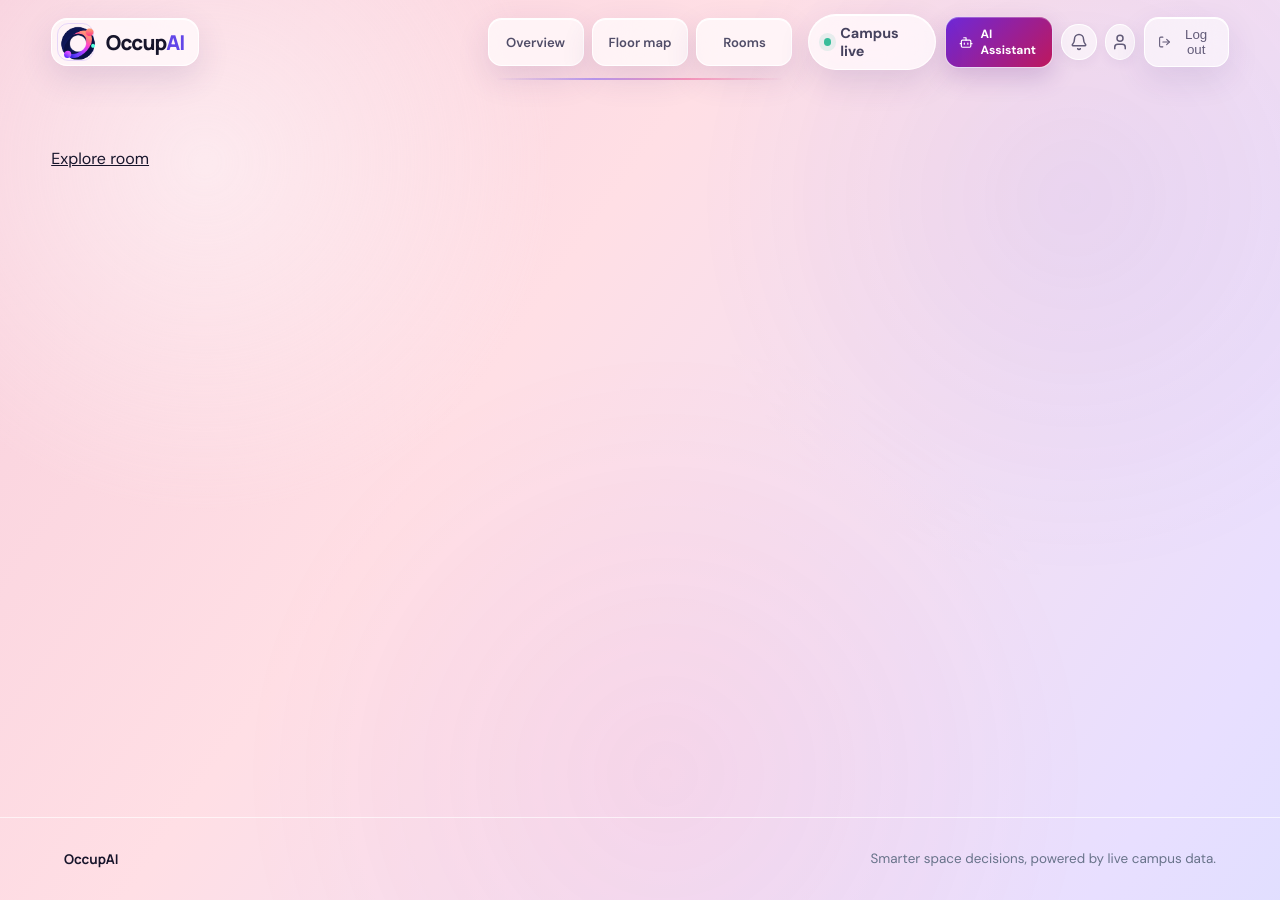
Scenario: AppLayout dashboard navigation › preserves the selected building and floor while exploring a room
Click the link "Explore room" at (100, 158), box [51, 148, 149, 169]
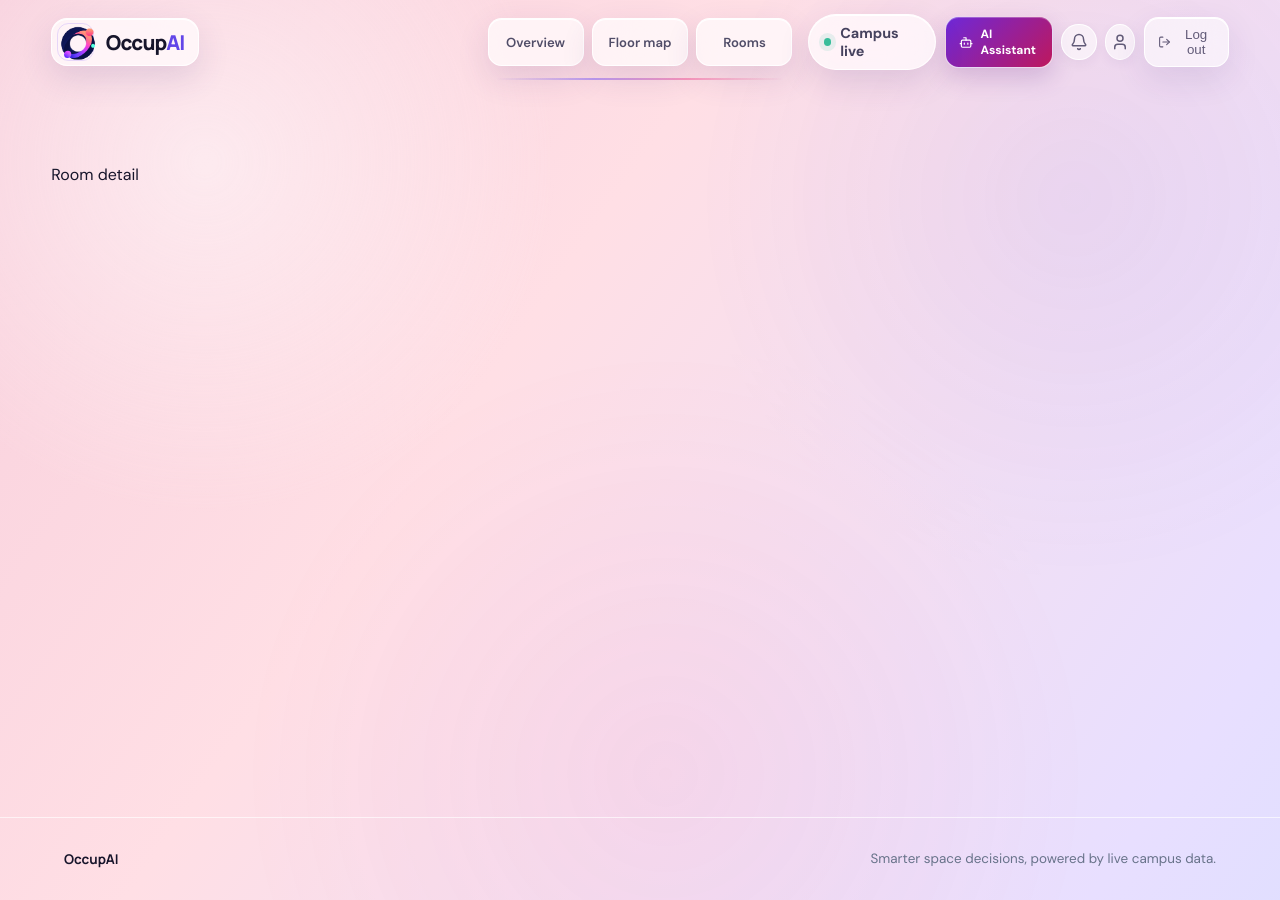
Expected: the text "Room detail" is shown, [51, 164, 139, 185]
